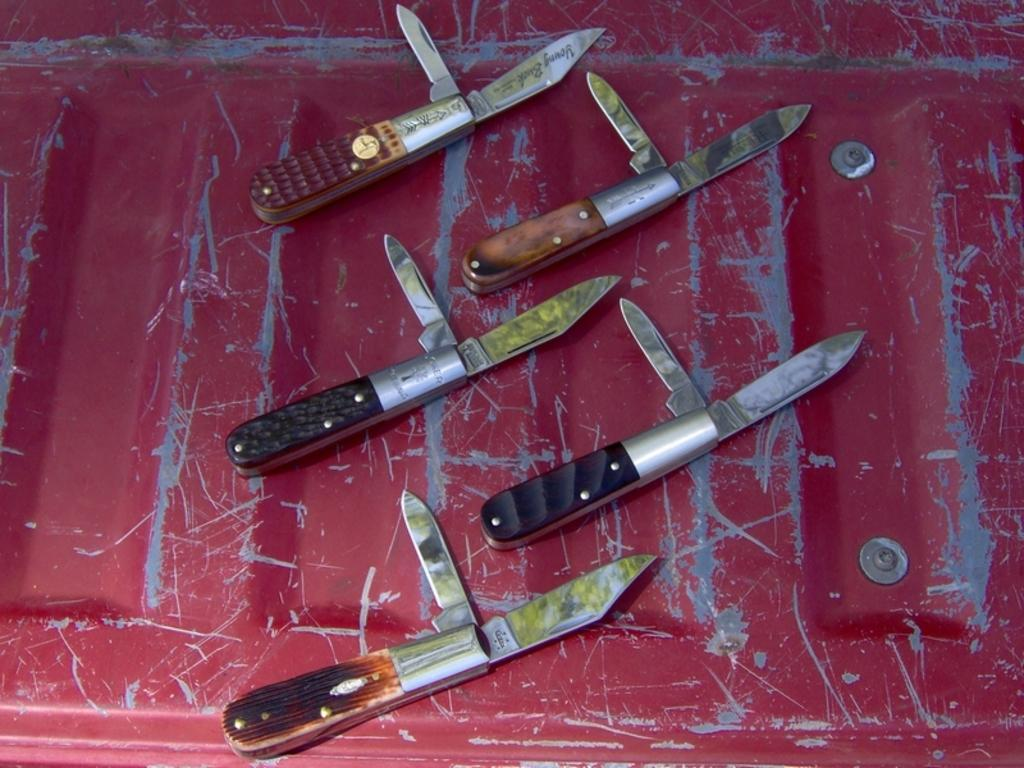knife: (212, 488, 656, 758), (220, 230, 628, 476), (479, 295, 869, 548), (464, 70, 812, 304), (248, 1, 608, 224)
